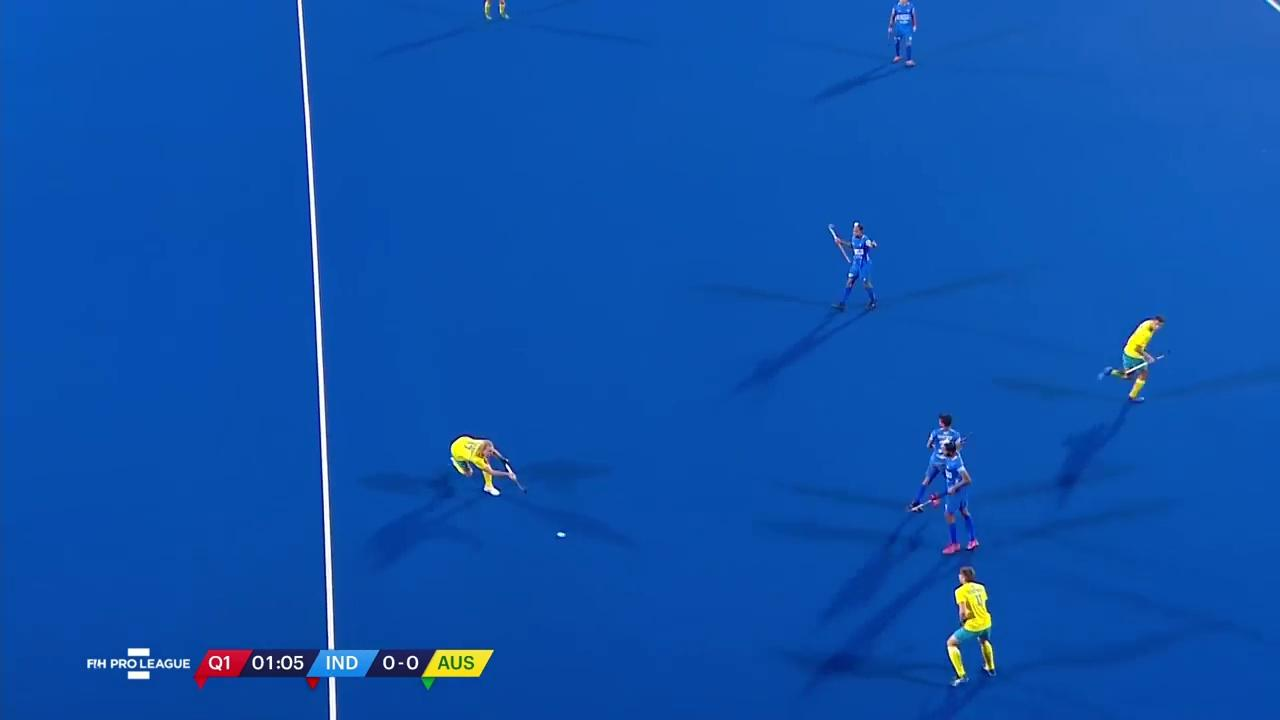ball: (553, 527, 570, 542)
